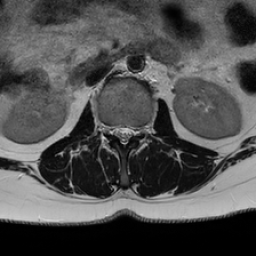CCS_normal: (120, 116, 128, 153)
LFS_normal: (136, 115, 144, 144)
LLS_normal: (128, 116, 136, 148)
RFS_normal: (104, 115, 112, 141)
RLS_normal: (112, 115, 120, 146)
